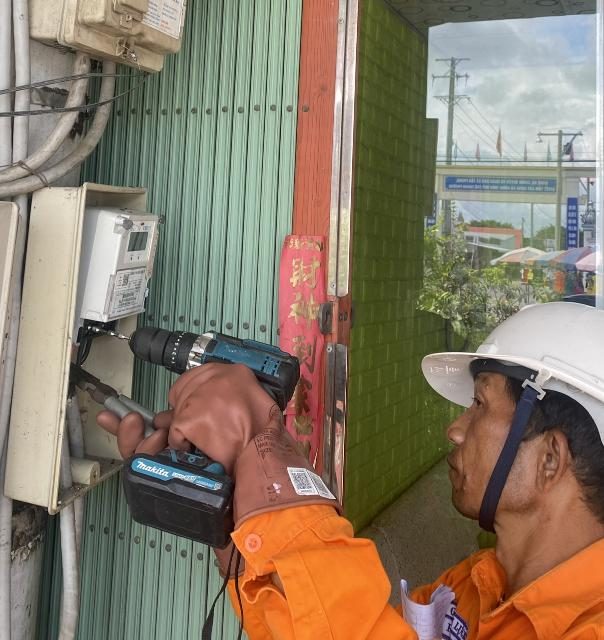gloves: (74, 393, 265, 599), (150, 366, 333, 528)
helmet: (393, 237, 604, 517)
